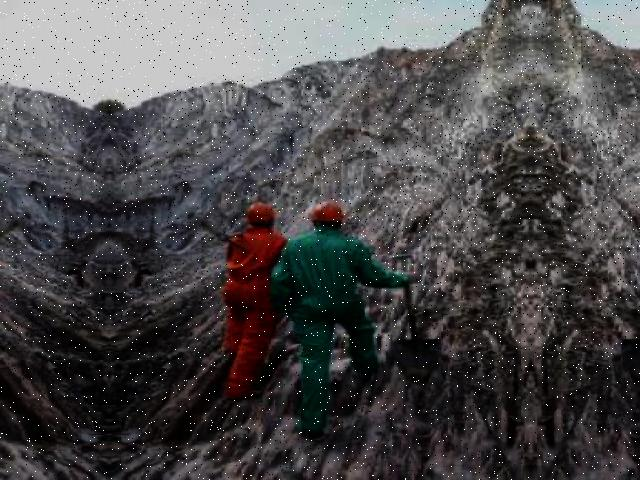Helmet: (304, 200, 344, 230), (239, 198, 276, 229)
